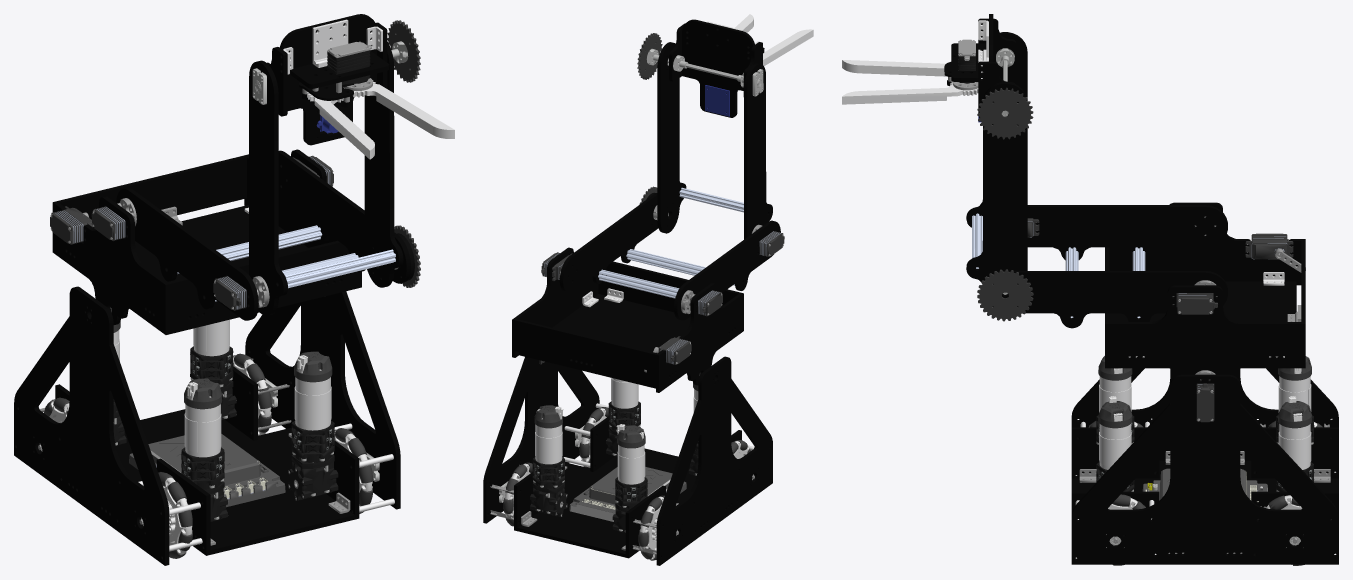
The model's file is logistibot.glb.
The picture shows the model from 3 angles, left to right: view 1: azimuth 30°, elevation 25°; view 2: azimuth 150°, elevation 25°; view 3: azimuth 270°, elevation 25°; orthographic projection. The views are drawn at different scales.
Visible parts, largest first — view 1: HD Hex Encoder Baseplate (1) (1) (2) (1) (1):1; view 2: HD Hex Encoder Baseplate (1) (1) (2) (1) (1):1; view 3: HD Hex Encoder Baseplate (1) (1) (2) (1) (1):1.
Part boxes in pixels (x1,y1,x2,y2): HD Hex Encoder Baseplate (1) (1) (2) (1) (1):1: (14, 14, 454, 565); HD Hex Encoder Baseplate (1) (1) (2) (1) (1):1: (483, 14, 813, 565); HD Hex Encoder Baseplate (1) (1) (2) (1) (1):1: (842, 14, 1338, 565).
Size of the model in its own units: 0.2898 by 0.6261 by 0.5664.
Materials: 1 (1 with a texture image).
